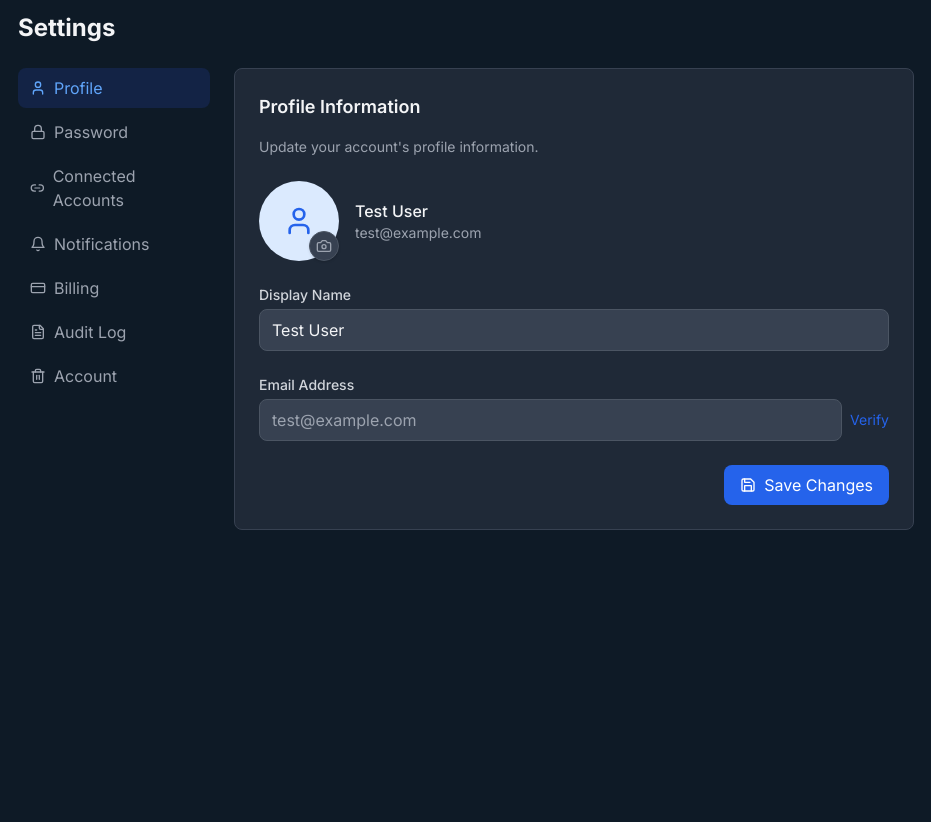
SettingsPage › switches to notifications section
Click the button "Notifications" at (114, 244), box [18, 224, 210, 264]
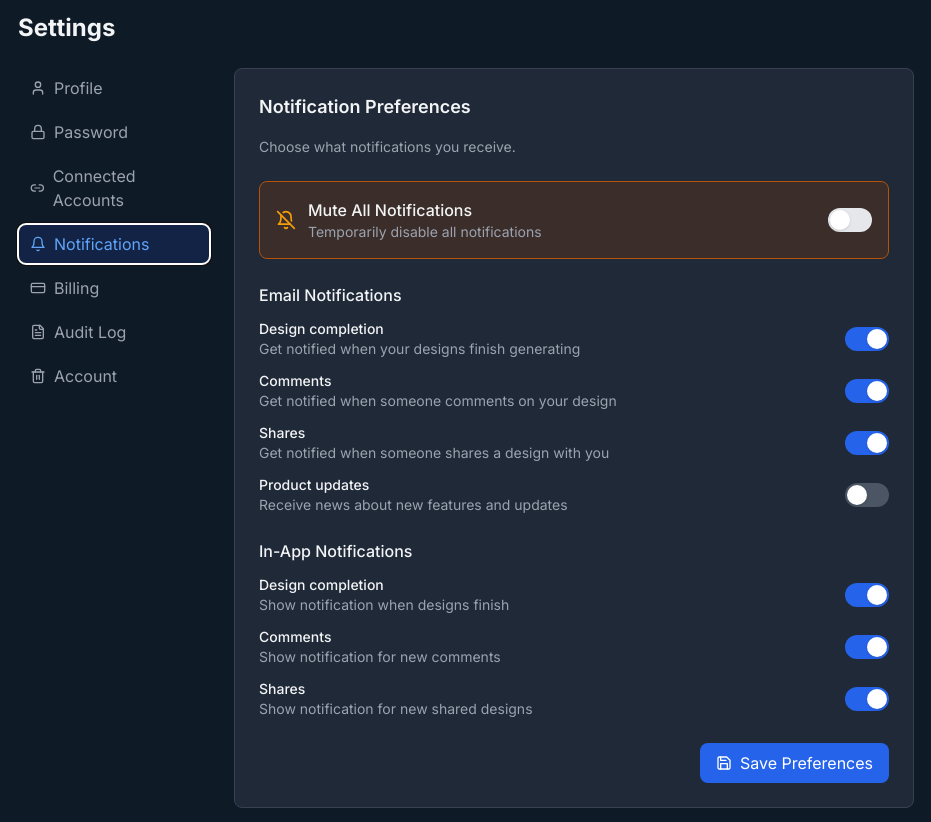
Now the heading "Email Notifications" is shown, box [259, 285, 402, 305]
